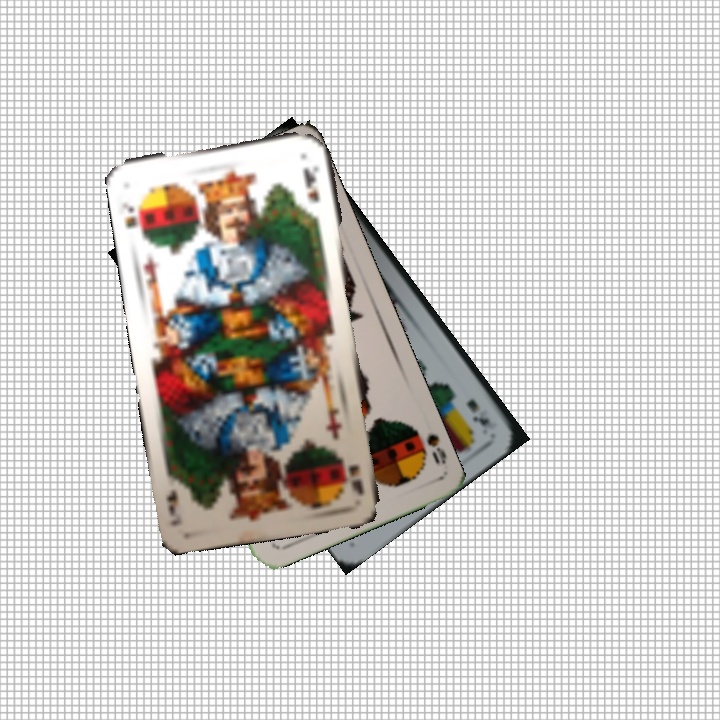EK: (462, 394, 492, 430)
SK: (117, 195, 148, 239), (343, 459, 368, 498)
SO: (406, 421, 450, 467)
